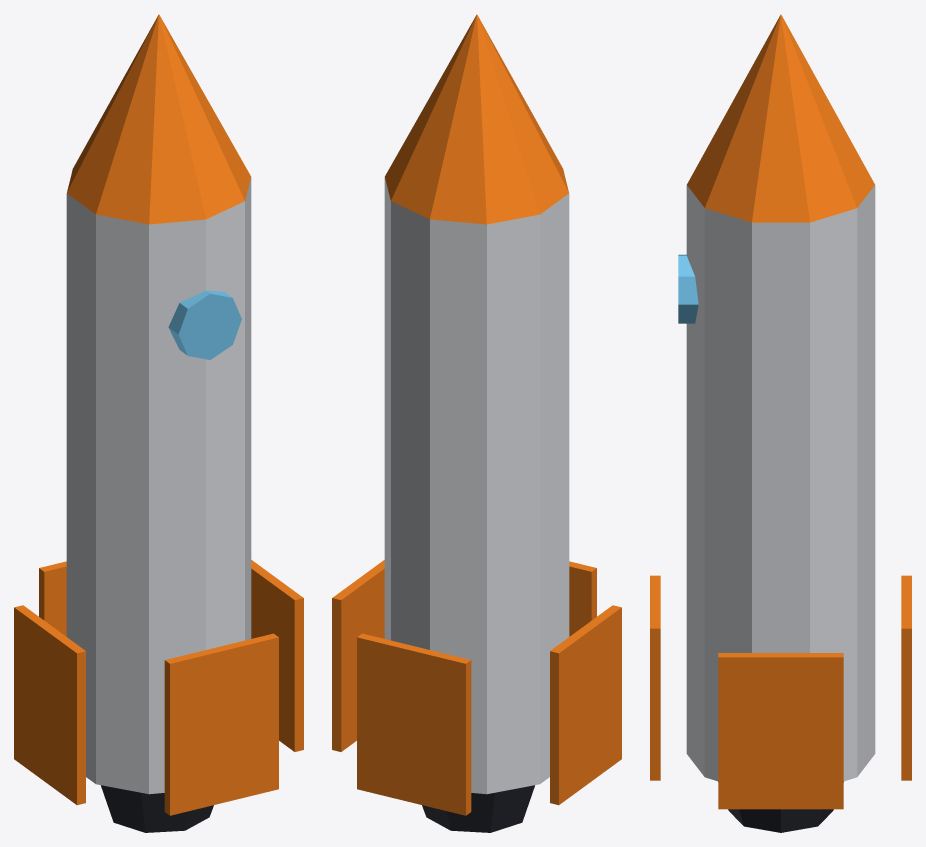
Rendered from lunar-rocket.glb.
The picture shows the model from 3 angles, left to right: view 1: azimuth 30°, elevation 25°; view 2: azimuth 150°, elevation 25°; view 3: azimuth 270°, elevation 25°; orthographic projection.
Parts seen in each view (by area): view 1: rocket; view 2: rocket; view 3: rocket.
Part boxes in pixels (<box>): rocket: <box>14,14,303,832</box>; rocket: <box>332,14,621,832</box>; rocket: <box>650,14,911,832</box>.
Bounding box in the file's own units: 2.5 × 8.4 × 2.5.
